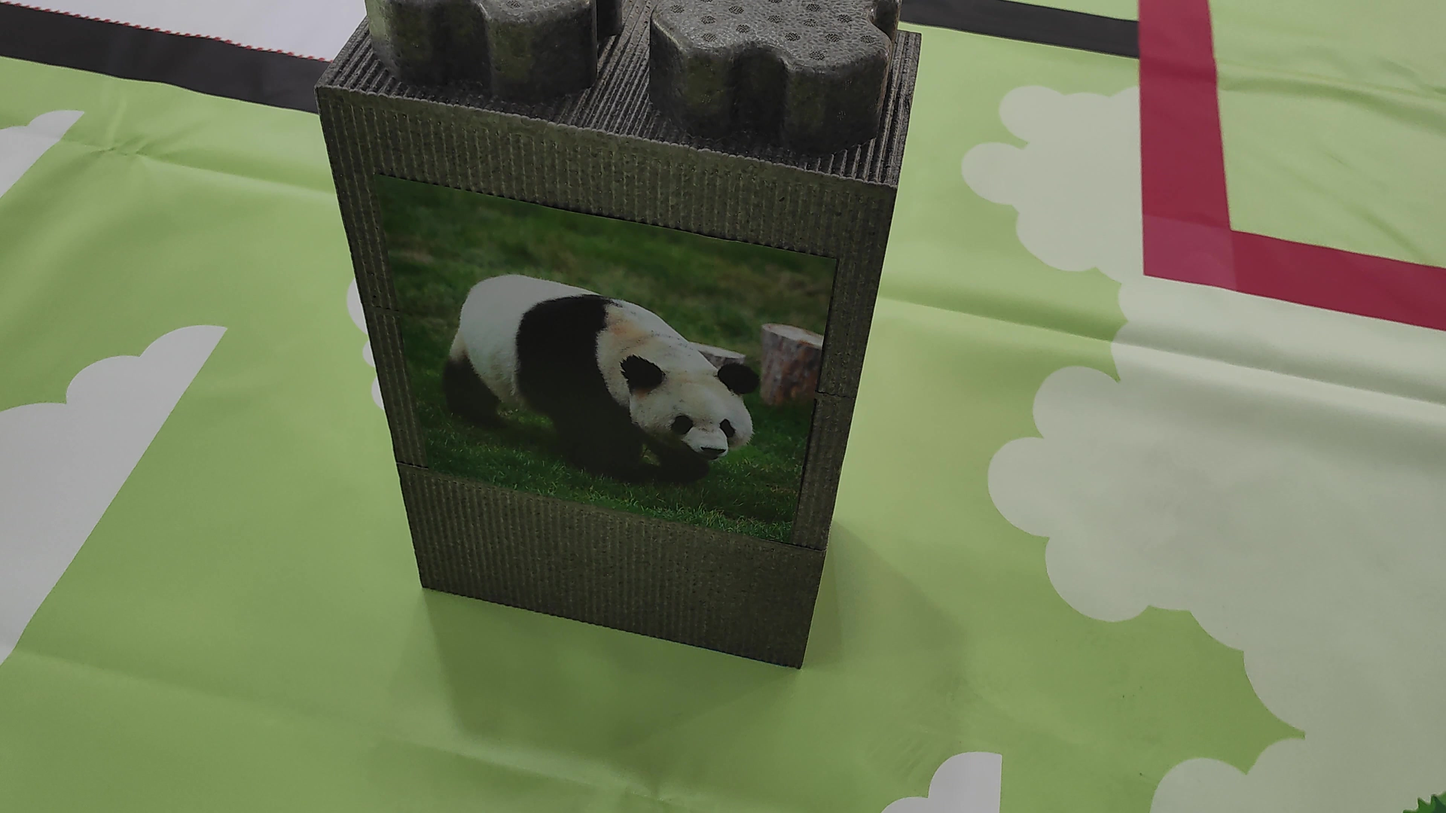panda: (417, 228, 786, 516)
